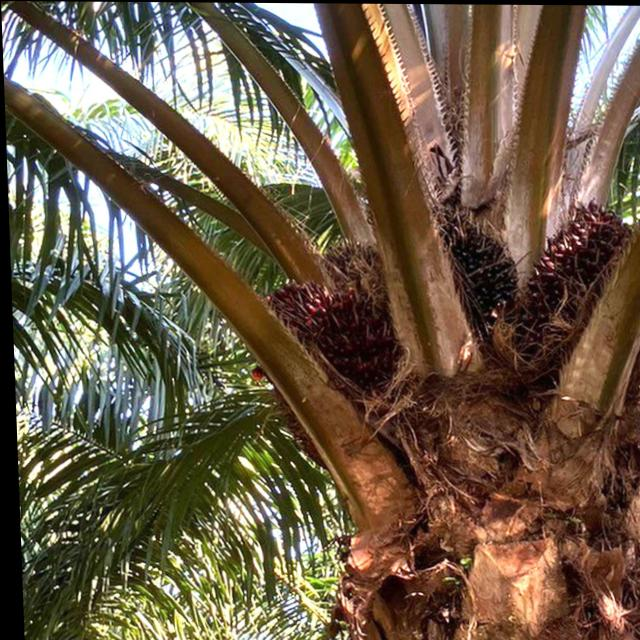ripe: (239, 237, 422, 400)
